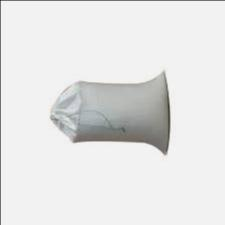Plastic: (43, 66, 173, 158)
